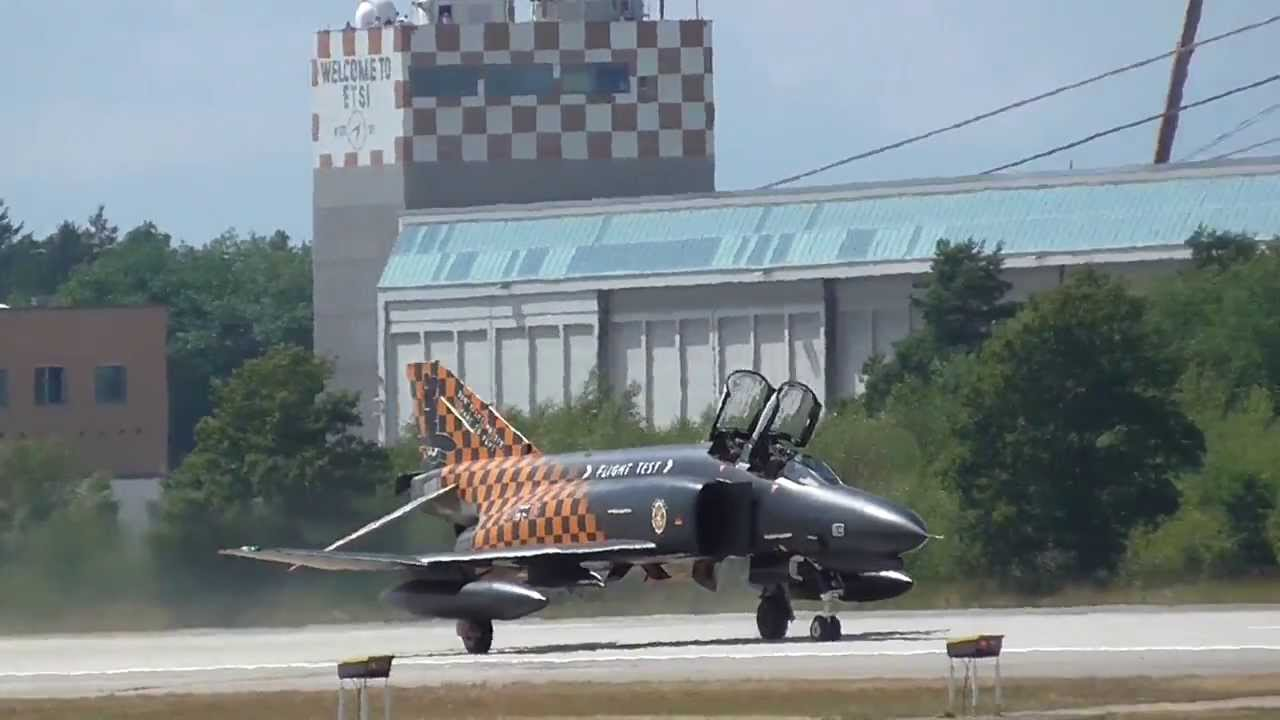F4: (216, 360, 945, 653)
